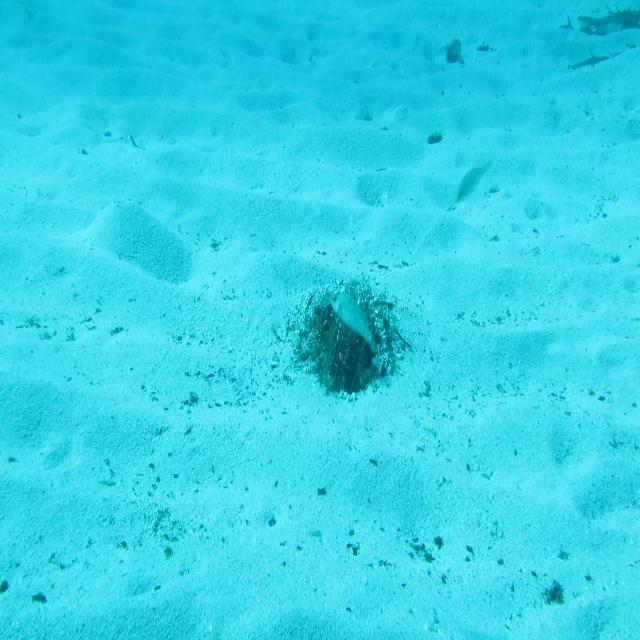ROLL: (328, 291, 379, 358)
female: (452, 154, 499, 210)
nest: (295, 277, 403, 400)
